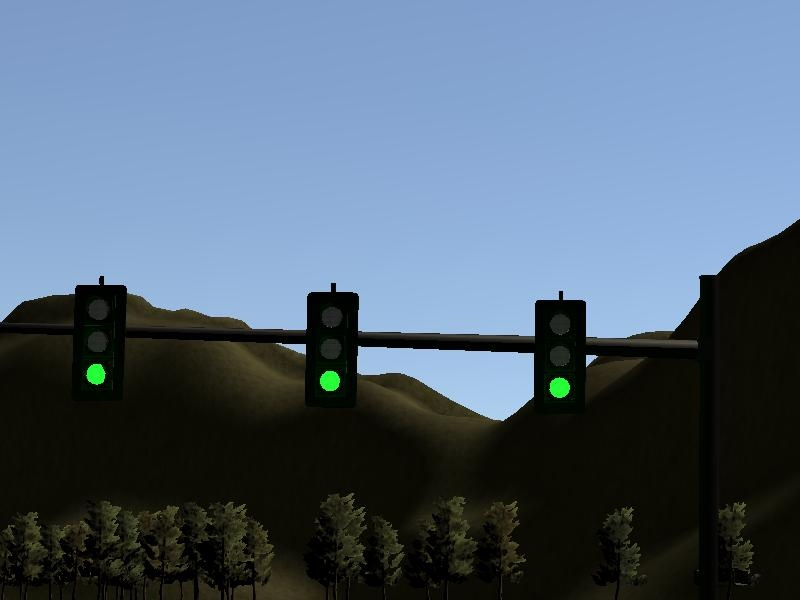GREEN: (72, 283, 126, 402), (305, 290, 359, 409), (532, 299, 586, 418)
